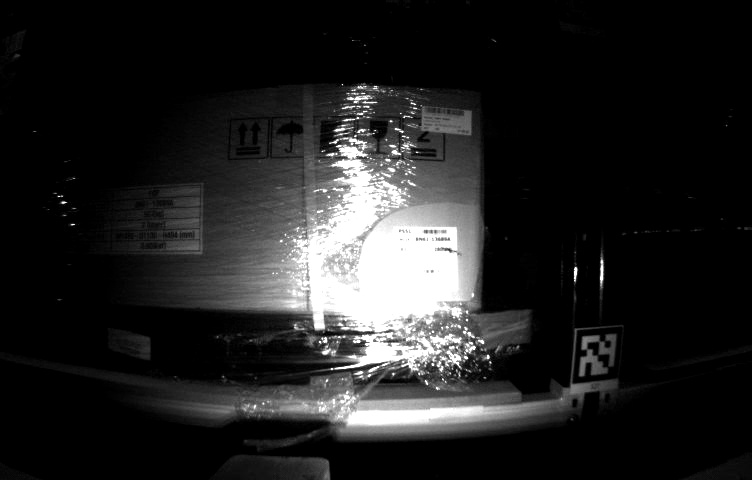True Barcode: (391, 227, 465, 299)
